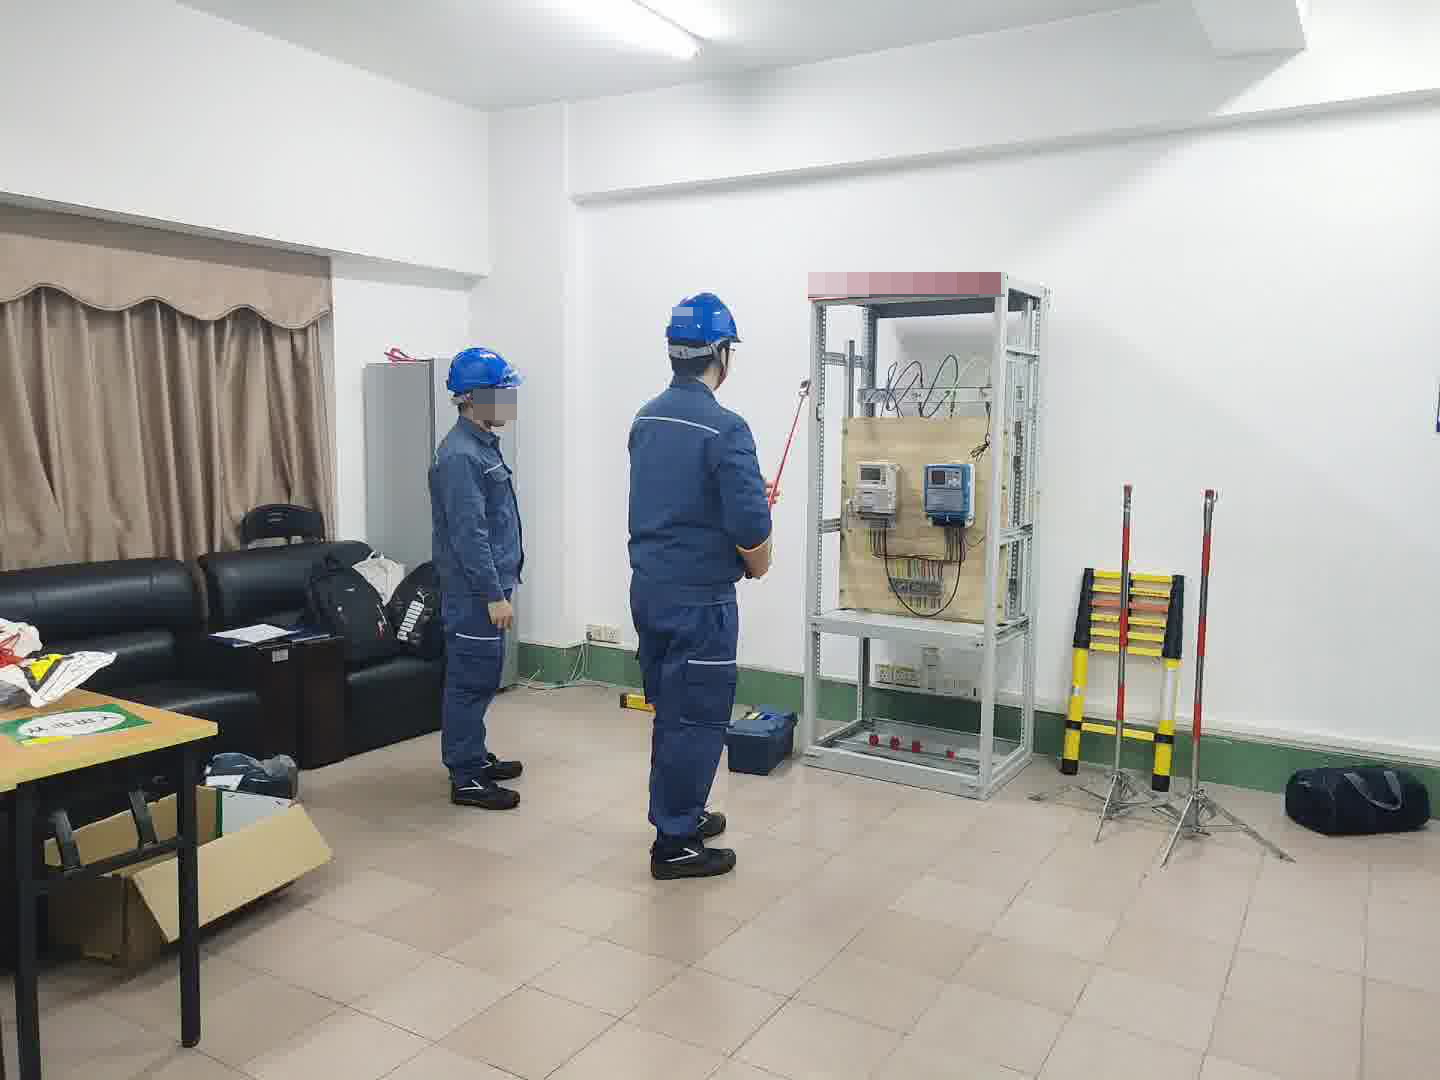downsuit: (635, 606, 743, 840), (433, 607, 511, 781)
halt: (663, 292, 743, 388), (445, 347, 523, 429)
hand: (488, 595, 512, 630)
inear: (702, 335, 735, 373), (464, 383, 492, 414)
longglove: (738, 538, 777, 578)
person: (619, 289, 775, 880), (417, 345, 536, 812)
testrod: (767, 397, 800, 497)
upsuit: (624, 378, 765, 583), (425, 423, 526, 598)
